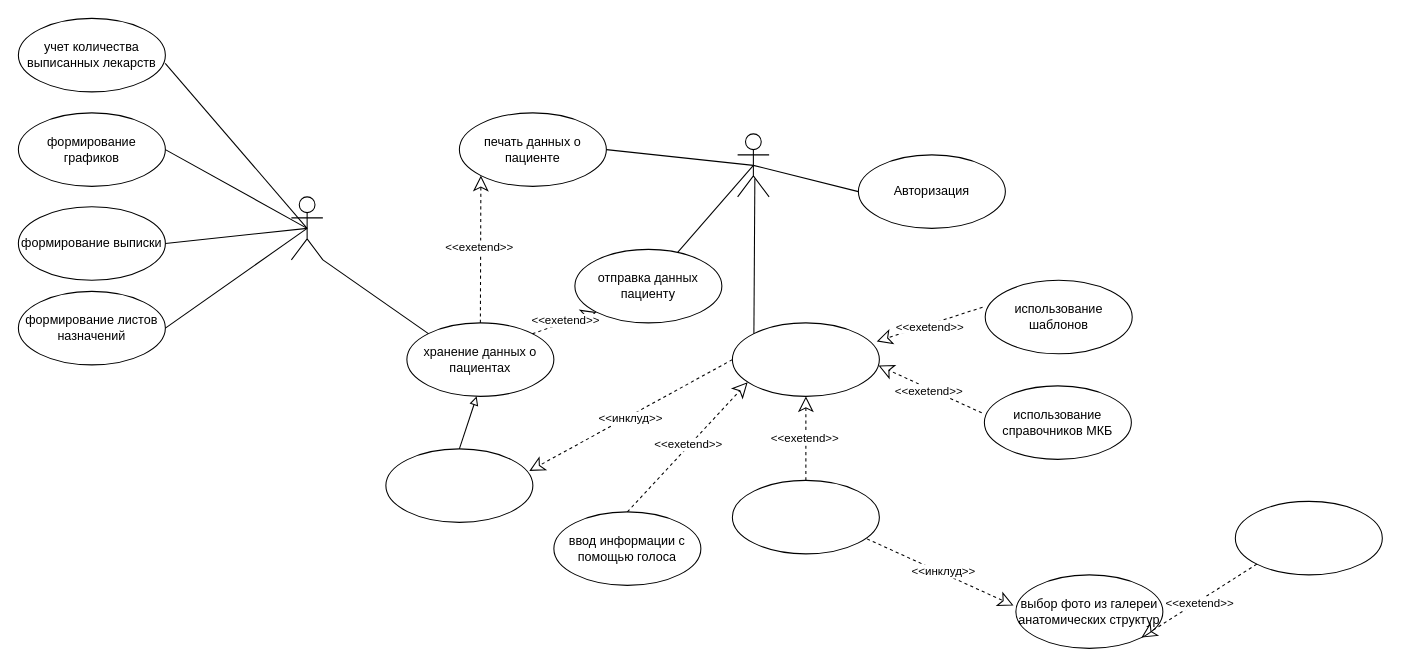
Image size: 1401x671. Some labels were removed from this diagram. Each missing label, with the centre of its shape:
"coхранение данных о пациентах" belongs at point (459, 485).
"doctor" belongs at point (753, 165).
"ввод данных о пациенте" belongs at point (805, 359).
"прикрепление анотаций" belongs at point (1308, 537).
"прикрепление фото" belongs at point (805, 516).
"система" belongs at point (306, 228).
